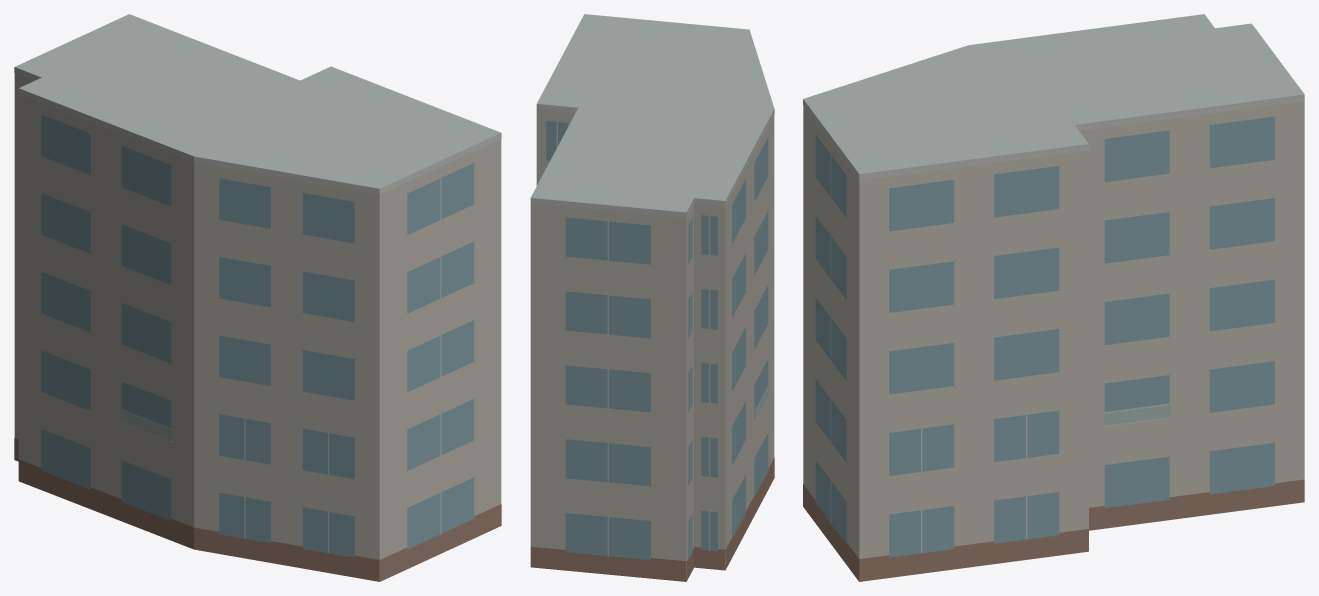
The model's file is survey-upis-32622865.glb.
3 renders of one model, left to right at view 1: azimuth 30°, elevation 25°; view 2: azimuth 150°, elevation 25°; view 3: azimuth 270°, elevation 25°, orthographic. The views are drawn at different scales.
Visible parts, largest first — view 1: survey-upis-32622865.tmp; view 2: survey-upis-32622865.tmp; view 3: survey-upis-32622865.tmp.
Boxes of the visible parts, bbox=[...] form: survey-upis-32622865.tmp: bbox=[14, 14, 501, 581]; survey-upis-32622865.tmp: bbox=[530, 14, 774, 581]; survey-upis-32622865.tmp: bbox=[803, 14, 1304, 581].
Size of the model in its own units: 12.86 by 15.25 by 17.01.
